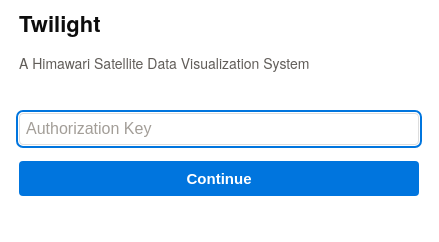
Test case: Login › shows an error for an invalid token
Type "wrong" into the password field with placeholder "Authorization Key". click: (219, 128)
box: top-left (19, 112), bottom-right (419, 144)
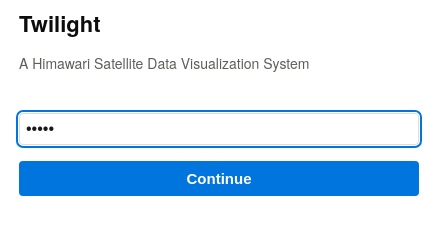
Submit the form with placeholder "Authorization Key", box top-left (19, 112), bottom-right (419, 196)
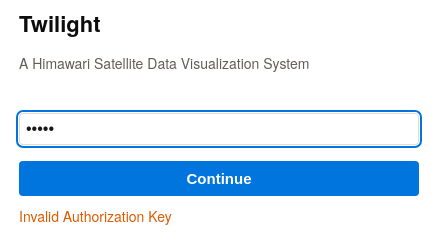
Expected: the text "Invalid Authorization Key" is shown, top-left (19, 206), bottom-right (172, 226)
